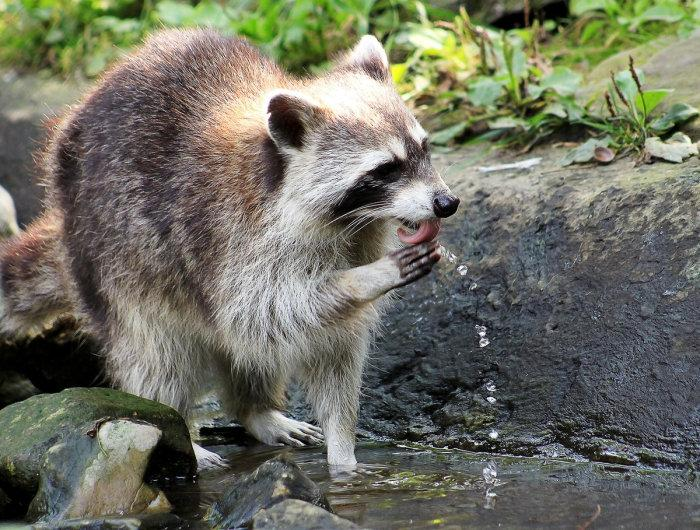raccoon: (5, 30, 466, 494)
